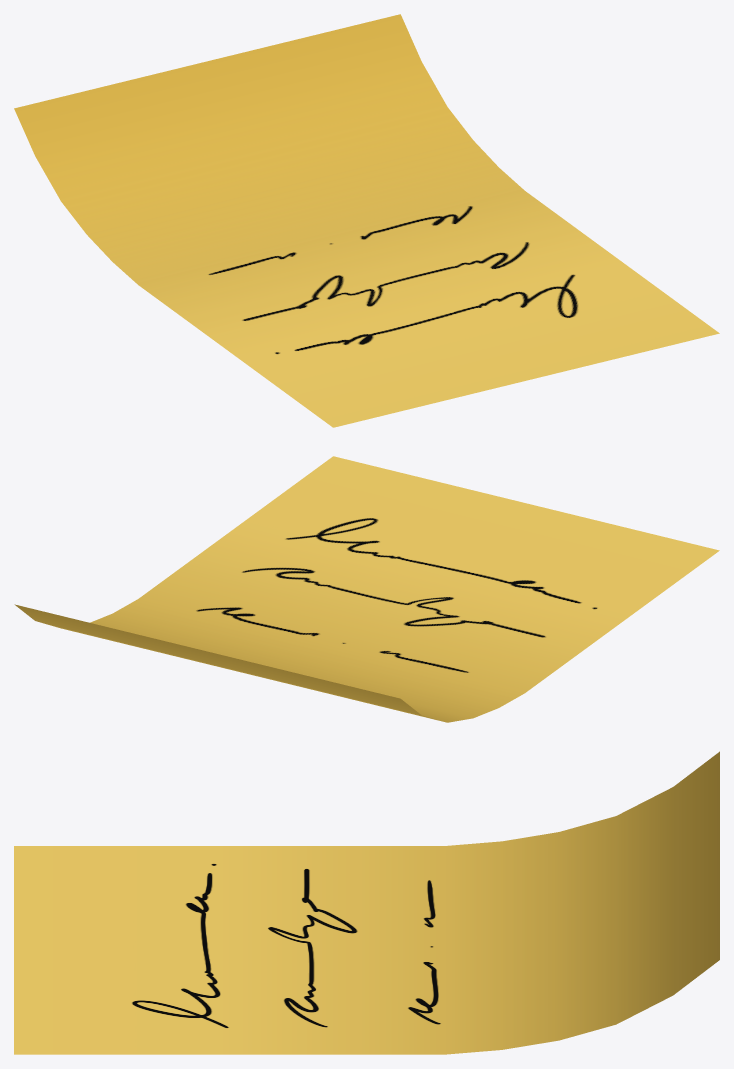
File: Postit0.FBX
3 renders of one model, top to bottom at view 1: azimuth 30°, elevation 25°; view 2: azimuth 150°, elevation 25°; view 3: azimuth 270°, elevation 25°, orthographic. The views are drawn at different scales.
Visible parts, largest first — view 1: Plane001; view 2: Plane001; view 3: Plane001.
Part boxes in pixels (<box>): Plane001: <box>14,14,719,427</box>; Plane001: <box>14,456,719,722</box>; Plane001: <box>14,751,719,1054</box>.
Bounding box in the file's own units: 4.73 × 1 × 6.77.
1 material, 1 textured.
